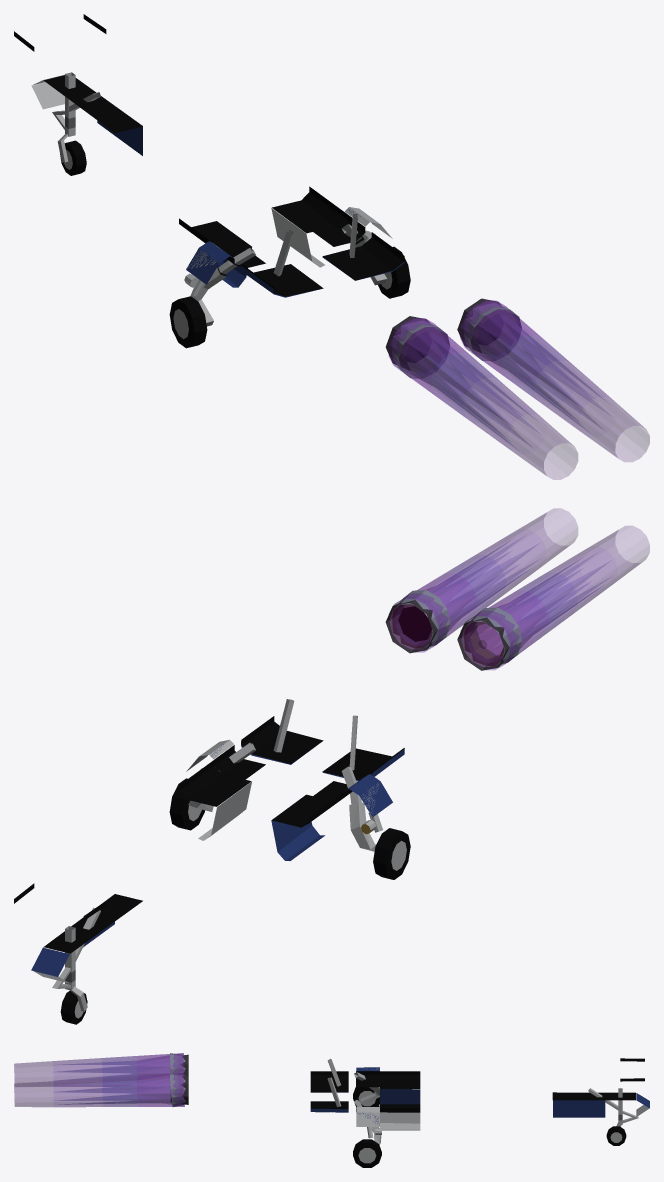
The model's file is Gear_T2BNG.obj.
3 views of the same model, one above another, from view 1: azimuth 30°, elevation 25°; view 2: azimuth 150°, elevation 25°; view 3: azimuth 270°, elevation 25° (orthographic). The views are drawn at different scales.
Parts seen in each view (by area): view 1: ShapeIndexedFaceSet.102_ShapeIndexedFaceSet.103, ShapeIndexedFaceSet.096_ShapeIndexedFaceSet.097, ShapeIndexedFaceSet.100_ShapeIndexedFaceSet.101, ShapeIndexedFaceSet.106_ShapeIndexedFaceSet.107, ShapeIndexedFaceSet.085_ShapeIndexedFaceSet.086, ShapeIndexedFaceSet.103_ShapeIndexedFaceSet.104, ShapeIndexedFaceSet.097_ShapeIndexedFaceSet.098, ShapeIndexedFaceSet.099_ShapeIndexedFaceSet.100, ShapeIndexedFaceSet.105_ShapeIndexedFaceSet.106, ShapeIndexedFaceSet.107_ShapeIndexedFaceSet.108, ShapeIndexedFaceSet.128_ShapeIndexedFaceSet.129, ShapeIndexedFaceSet.104_ShapeIndexedFaceSet.105 (+13 smaller); view 2: ShapeIndexedFaceSet.096_ShapeIndexedFaceSet.097, ShapeIndexedFaceSet.102_ShapeIndexedFaceSet.103, ShapeIndexedFaceSet.128_ShapeIndexedFaceSet.129, ShapeIndexedFaceSet.090_ShapeIndexedFaceSet.091, ShapeIndexedFaceSet.107_ShapeIndexedFaceSet.108, ShapeIndexedFaceSet.085_ShapeIndexedFaceSet.086, ShapeIndexedFaceSet.105_ShapeIndexedFaceSet.106, ShapeIndexedFaceSet.099_ShapeIndexedFaceSet.100, ShapeIndexedFaceSet.100_ShapeIndexedFaceSet.101, ShapeIndexedFaceSet.106_ShapeIndexedFaceSet.107, ShapeIndexedFaceSet.034_ShapeIndexedFaceSet.035, ShapeIndexedFaceSet.103_ShapeIndexedFaceSet.104 (+15 smaller); view 3: ShapeIndexedFaceSet.102_ShapeIndexedFaceSet.103, ShapeIndexedFaceSet.103_ShapeIndexedFaceSet.104, ShapeIndexedFaceSet.106_ShapeIndexedFaceSet.107, ShapeIndexedFaceSet.100_ShapeIndexedFaceSet.101, ShapeIndexedFaceSet.096_ShapeIndexedFaceSet.097, ShapeIndexedFaceSet.128_ShapeIndexedFaceSet.129, ShapeIndexedFaceSet.107_ShapeIndexedFaceSet.108, ShapeIndexedFaceSet.104_ShapeIndexedFaceSet.105, ShapeIndexedFaceSet.085_ShapeIndexedFaceSet.086, ShapeIndexedFaceSet.105_ShapeIndexedFaceSet.106, ShapeIndexedFaceSet.099_ShapeIndexedFaceSet.100, ShapeIndexedFaceSet.127_ShapeIndexedFaceSet.128 (+16 smaller).
Boxes of the visible parts, <box> form: ShapeIndexedFaceSet.102_ShapeIndexedFaceSet.103: <box>481,318,611,431</box>; ShapeIndexedFaceSet.096_ShapeIndexedFaceSet.097: <box>411,335,539,447</box>; ShapeIndexedFaceSet.100_ShapeIndexedFaceSet.101: <box>463,378,545,454</box>; ShapeIndexedFaceSet.106_ShapeIndexedFaceSet.107: <box>535,361,617,436</box>; ShapeIndexedFaceSet.085_ShapeIndexedFaceSet.086: <box>241,232,404,296</box>; ShapeIndexedFaceSet.103_ShapeIndexedFaceSet.104: <box>460,300,548,383</box>; ShapeIndexedFaceSet.097_ShapeIndexedFaceSet.098: <box>389,318,476,400</box>; ShapeIndexedFaceSet.099_ShapeIndexedFaceSet.100: <box>508,414,577,479</box>; ShapeIndexedFaceSet.105_ShapeIndexedFaceSet.106: <box>579,397,649,462</box>; ShapeIndexedFaceSet.107_ShapeIndexedFaceSet.108: <box>44,75,365,267</box>; ShapeIndexedFaceSet.128_ShapeIndexedFaceSet.129: <box>179,186,344,252</box>; ShapeIndexedFaceSet.104_ShapeIndexedFaceSet.105: <box>503,335,576,405</box>; ShapeIndexedFaceSet.096_ShapeIndexedFaceSet.097: <box>467,553,610,662</box>; ShapeIndexedFaceSet.102_ShapeIndexedFaceSet.103: <box>395,536,538,645</box>; ShapeIndexedFaceSet.128_ShapeIndexedFaceSet.129: <box>179,760,344,827</box>; ShapeIndexedFaceSet.090_ShapeIndexedFaceSet.091: <box>389,604,504,666</box>; ShapeIndexedFaceSet.107_ShapeIndexedFaceSet.108: <box>43,745,352,953</box>; ShapeIndexedFaceSet.085_ShapeIndexedFaceSet.086: <box>241,716,404,780</box>; ShapeIndexedFaceSet.105_ShapeIndexedFaceSet.106: <box>508,508,577,570</box>; ShapeIndexedFaceSet.099_ShapeIndexedFaceSet.100: <box>579,526,649,587</box>; ShapeIndexedFaceSet.100_ShapeIndexedFaceSet.101: <box>535,546,617,618</box>; ShapeIndexedFaceSet.106_ShapeIndexedFaceSet.107: <box>463,529,545,600</box>; ShapeIndexedFaceSet.034_ShapeIndexedFaceSet.035: <box>389,590,521,666</box>; ShapeIndexedFaceSet.103_ShapeIndexedFaceSet.104: <box>389,574,476,652</box>; ShapeIndexedFaceSet.102_ShapeIndexedFaceSet.103: <box>56,1078,170,1104</box>; ShapeIndexedFaceSet.103_ShapeIndexedFaceSet.104: <box>136,1073,184,1106</box>; ShapeIndexedFaceSet.106_ShapeIndexedFaceSet.107: <box>53,1078,102,1107</box>; ShapeIndexedFaceSet.100_ShapeIndexedFaceSet.101: <box>53,1058,102,1086</box>; ShapeIndexedFaceSet.096_ShapeIndexedFaceSet.097: <box>55,1058,170,1080</box>; ShapeIndexedFaceSet.128_ShapeIndexedFaceSet.129: <box>380,1071,420,1112</box>; ShapeIndexedFaceSet.107_ShapeIndexedFaceSet.108: <box>356,1071,635,1111</box>; ShapeIndexedFaceSet.104_ShapeIndexedFaceSet.105: <box>102,1076,137,1106</box>; ShapeIndexedFaceSet.085_ShapeIndexedFaceSet.086: <box>310,1071,348,1108</box>; ShapeIndexedFaceSet.105_ShapeIndexedFaceSet.106: <box>14,1081,53,1107</box>; ShapeIndexedFaceSet.099_ShapeIndexedFaceSet.100: <box>14,1061,53,1086</box>; ShapeIndexedFaceSet.127_ShapeIndexedFaceSet.128: <box>553,1100,605,1117</box>.
Bounding box in the file's own units: 32.9 × 20.02 × 145.
